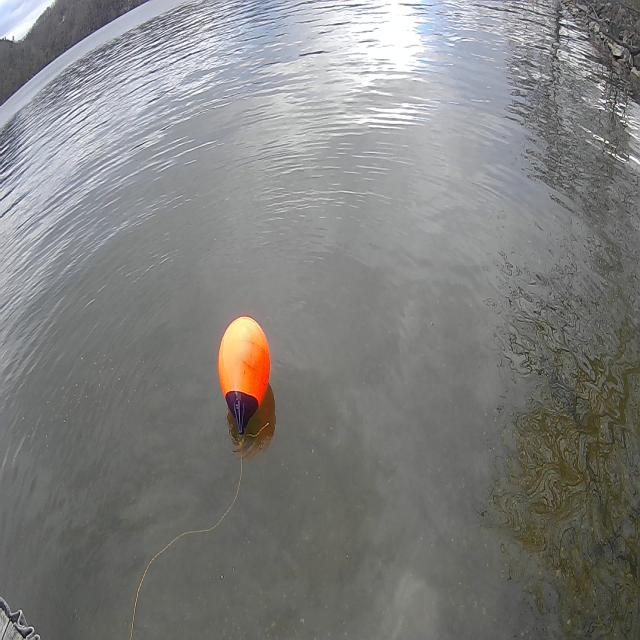Buoy: (215, 308, 275, 440)
